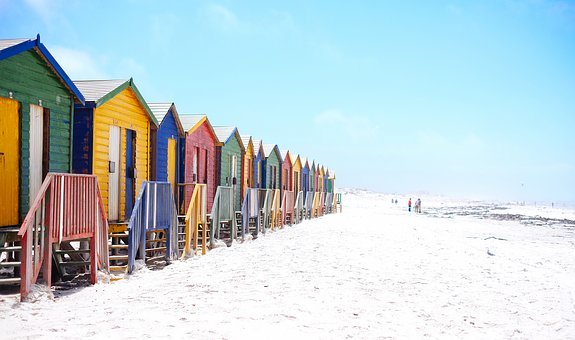beach: (87, 166, 570, 336)
house: (1, 71, 343, 243)
sky: (81, 1, 570, 175)
